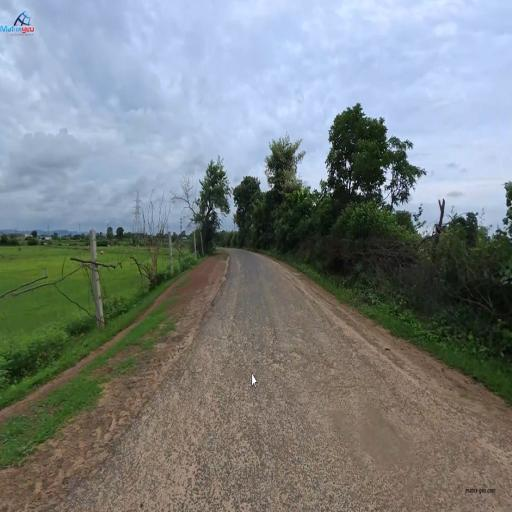ravelling: (187, 393, 310, 476)
